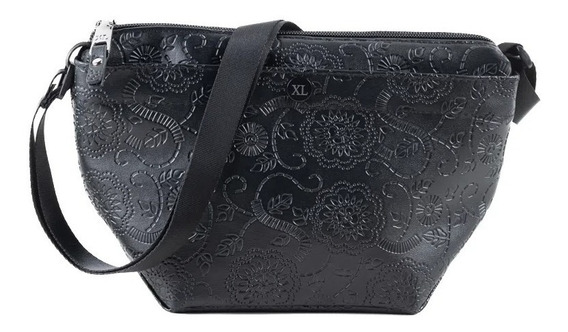cartera: (30, 17, 541, 315)
